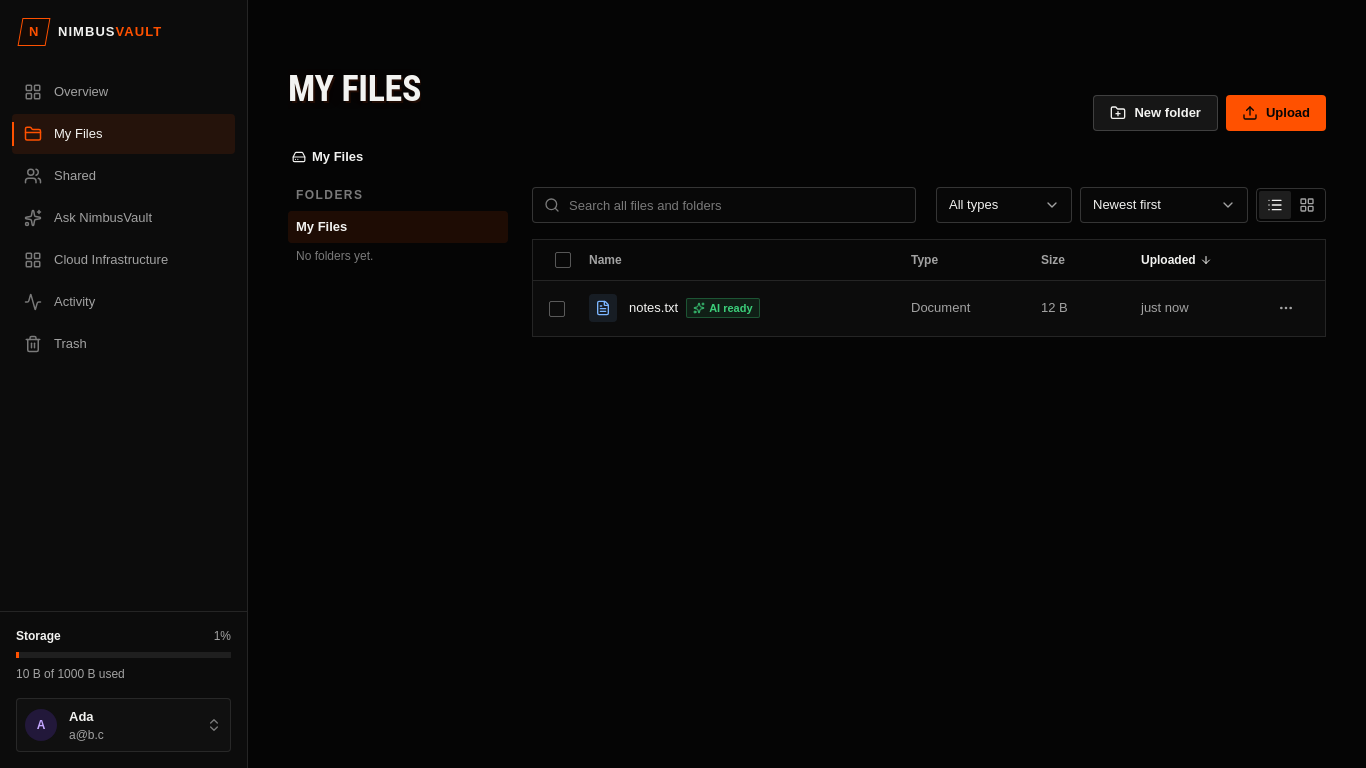
FilesPage › renames and moves to trash through dialogs
Click the button named "Actions for notes.txt": (1286, 308) left=1270, top=292, right=1302, bottom=324
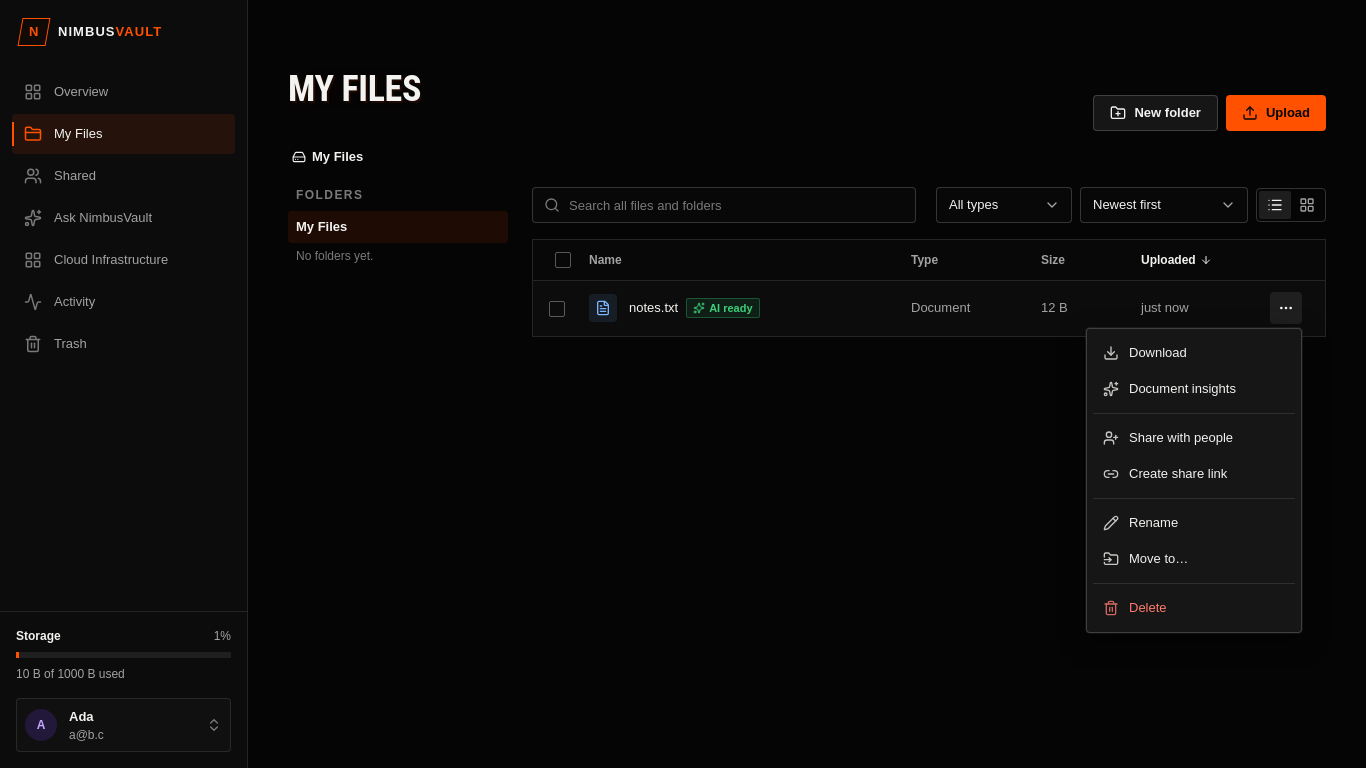
Click the menu item "Rename": (1194, 523) left=1093, top=505, right=1295, bottom=541
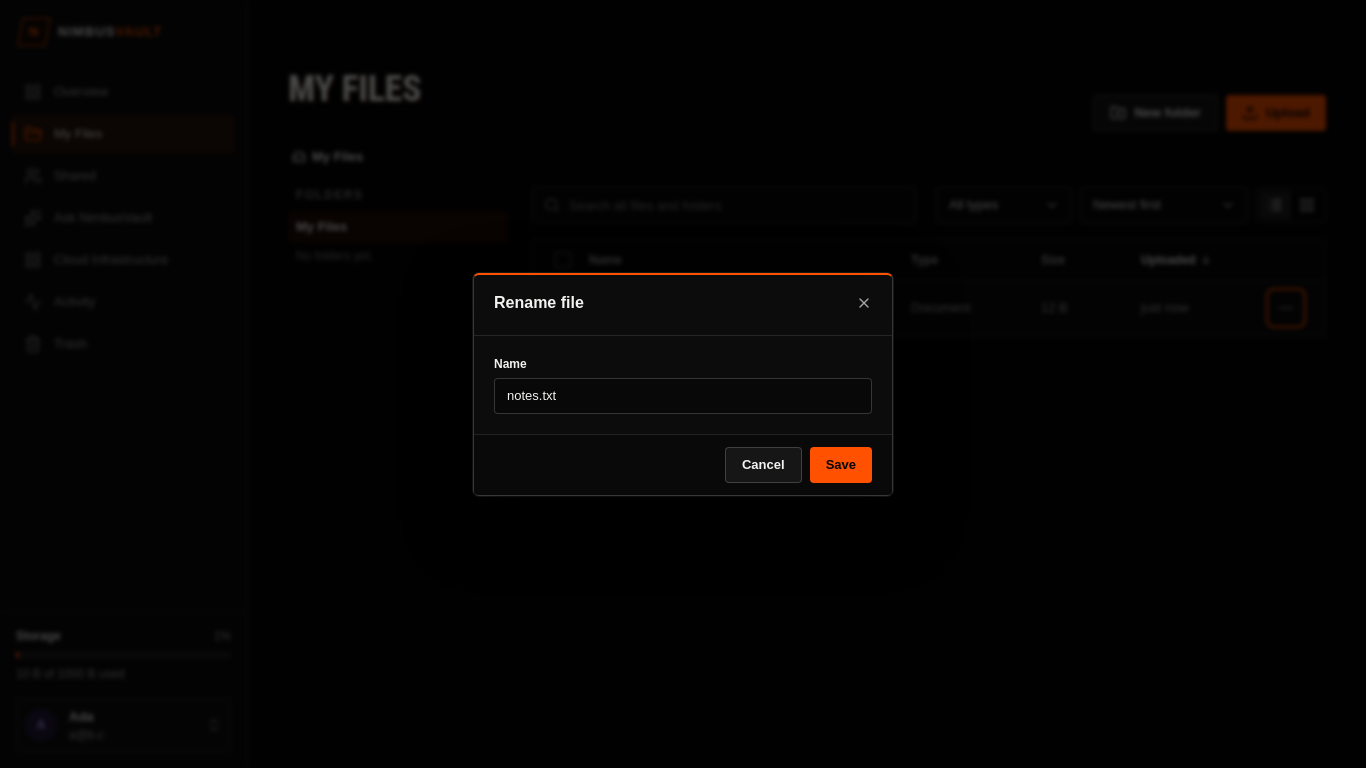
Replace the text in the field labelled "Name" with "renamed.txt": (683, 396) left=494, top=378, right=872, bottom=414
Click the button "Save": (841, 464) left=810, top=446, right=872, bottom=482
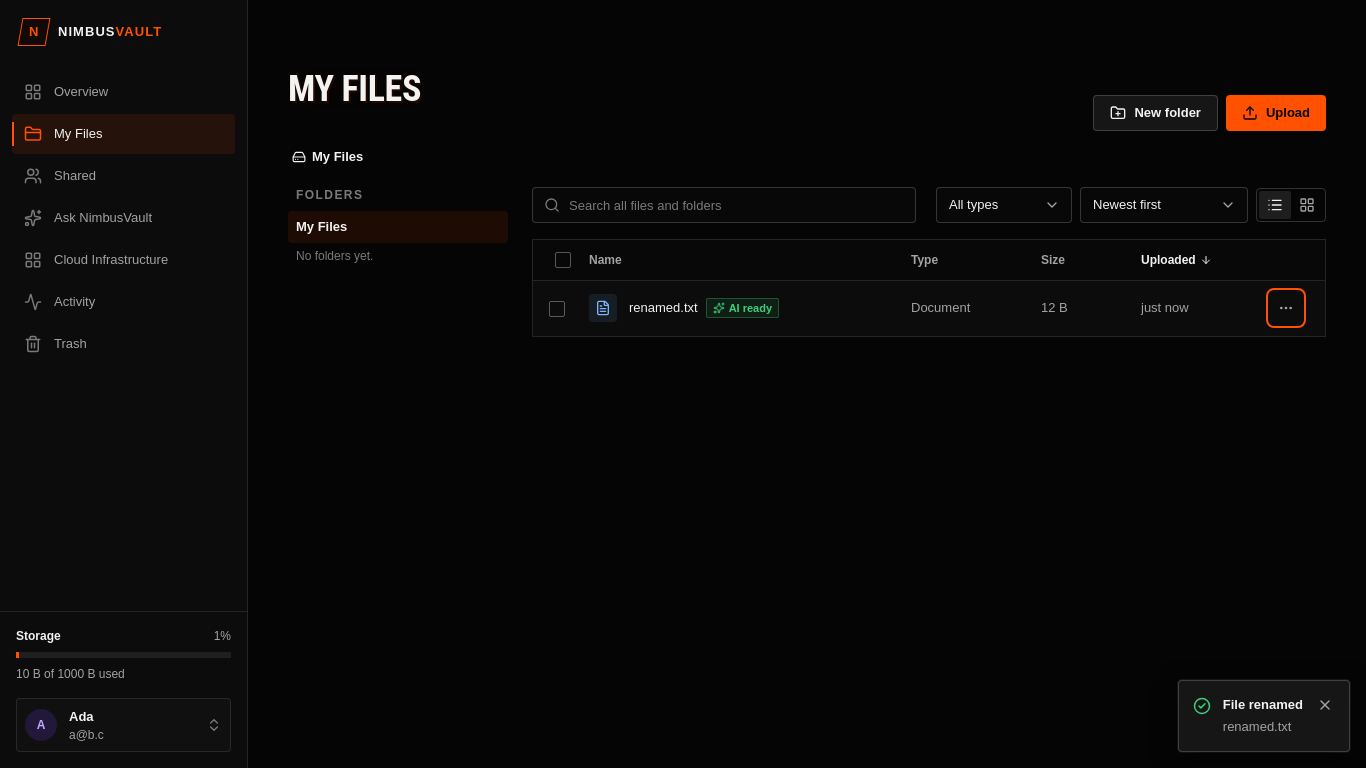
Expected: the dialog is gone
Click the button named "Actions for renamed.txt": (1286, 308) left=1270, top=292, right=1302, bottom=324
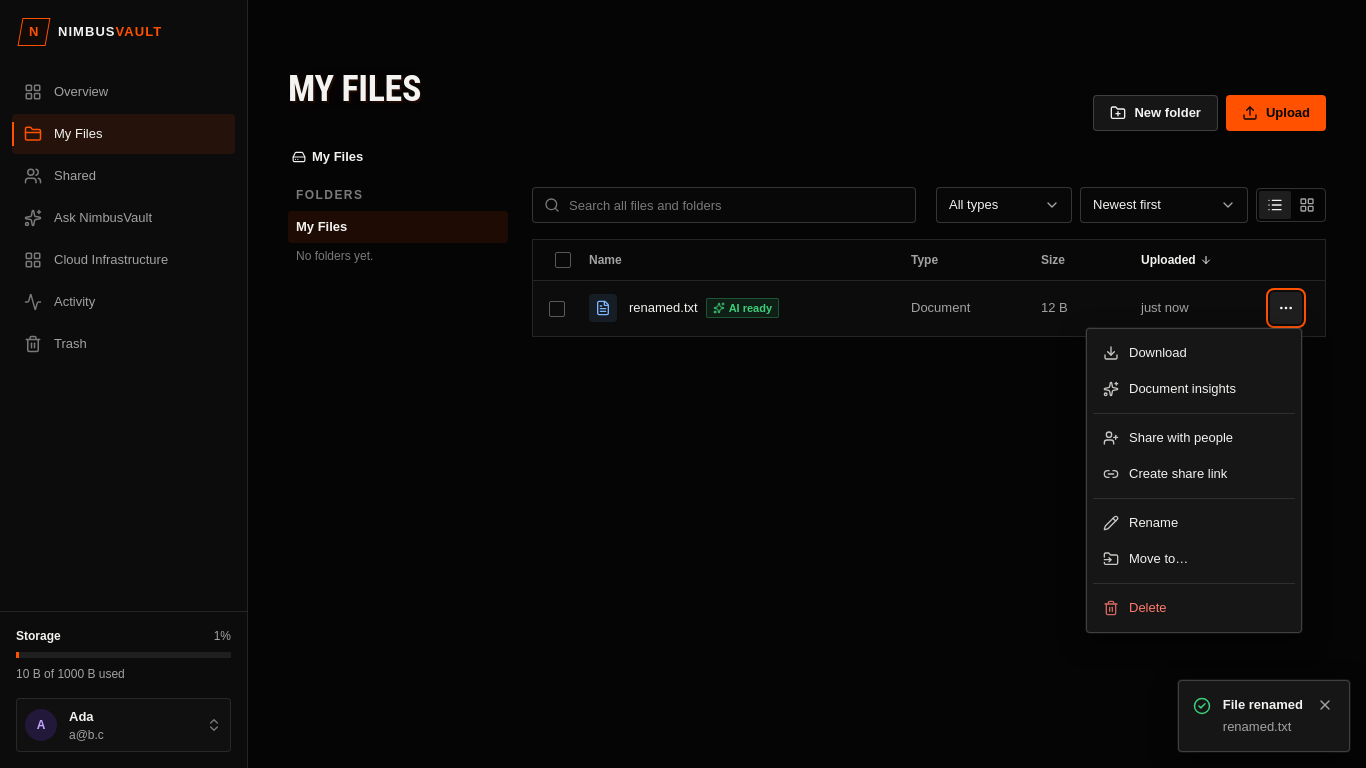
Click the menu item "Delete": (1194, 608) left=1093, top=590, right=1295, bottom=626
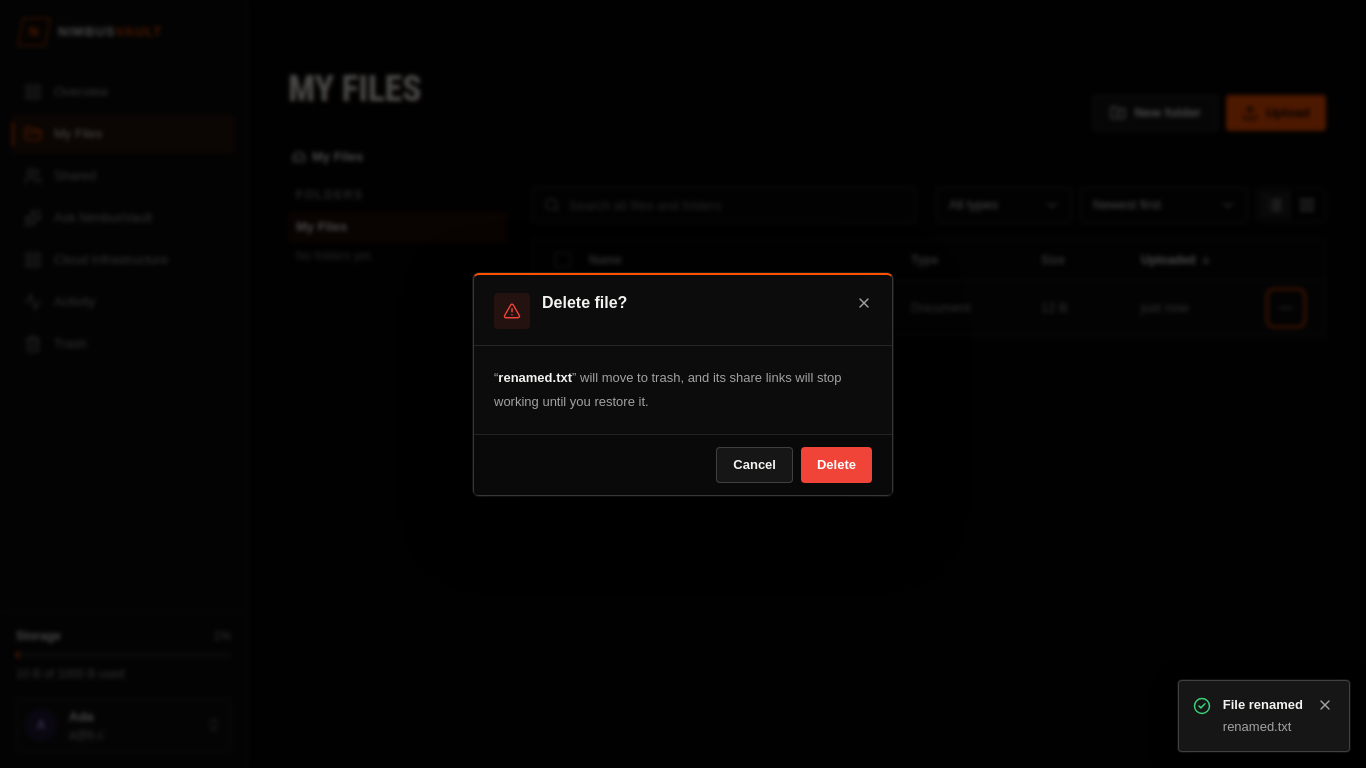
Expected: the dialog shows "move to trash", left=494, top=370, right=842, bottom=408
Click the button "Delete": (836, 464) left=801, top=446, right=872, bottom=482
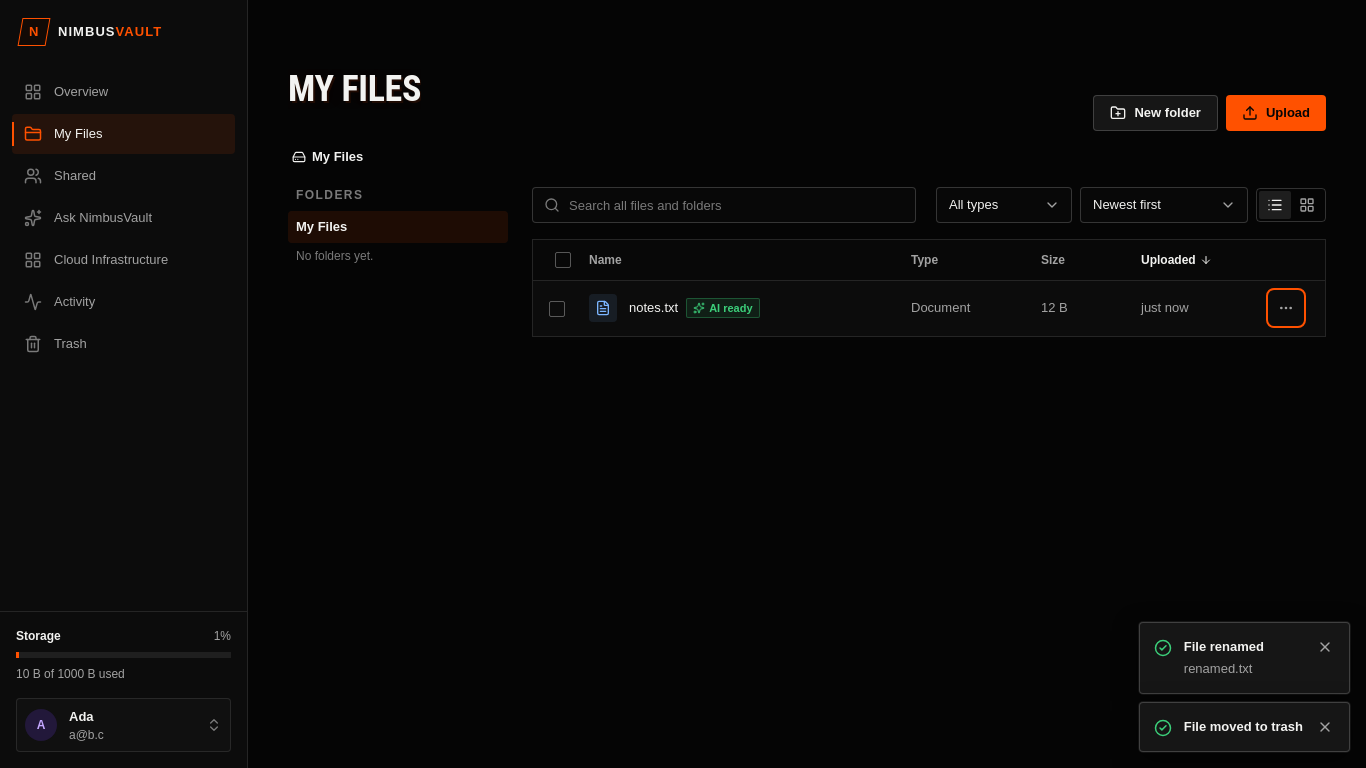
Expected: the text "File moved to trash" is shown, left=1184, top=717, right=1303, bottom=737
